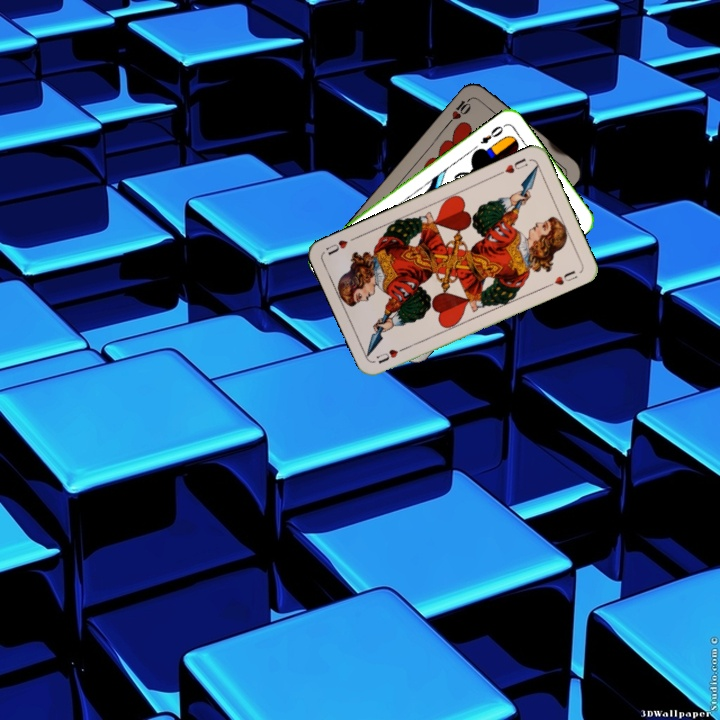EO: (476, 121, 508, 146)
H10: (444, 93, 475, 126)
HU: (373, 342, 410, 366), (494, 154, 530, 178)
